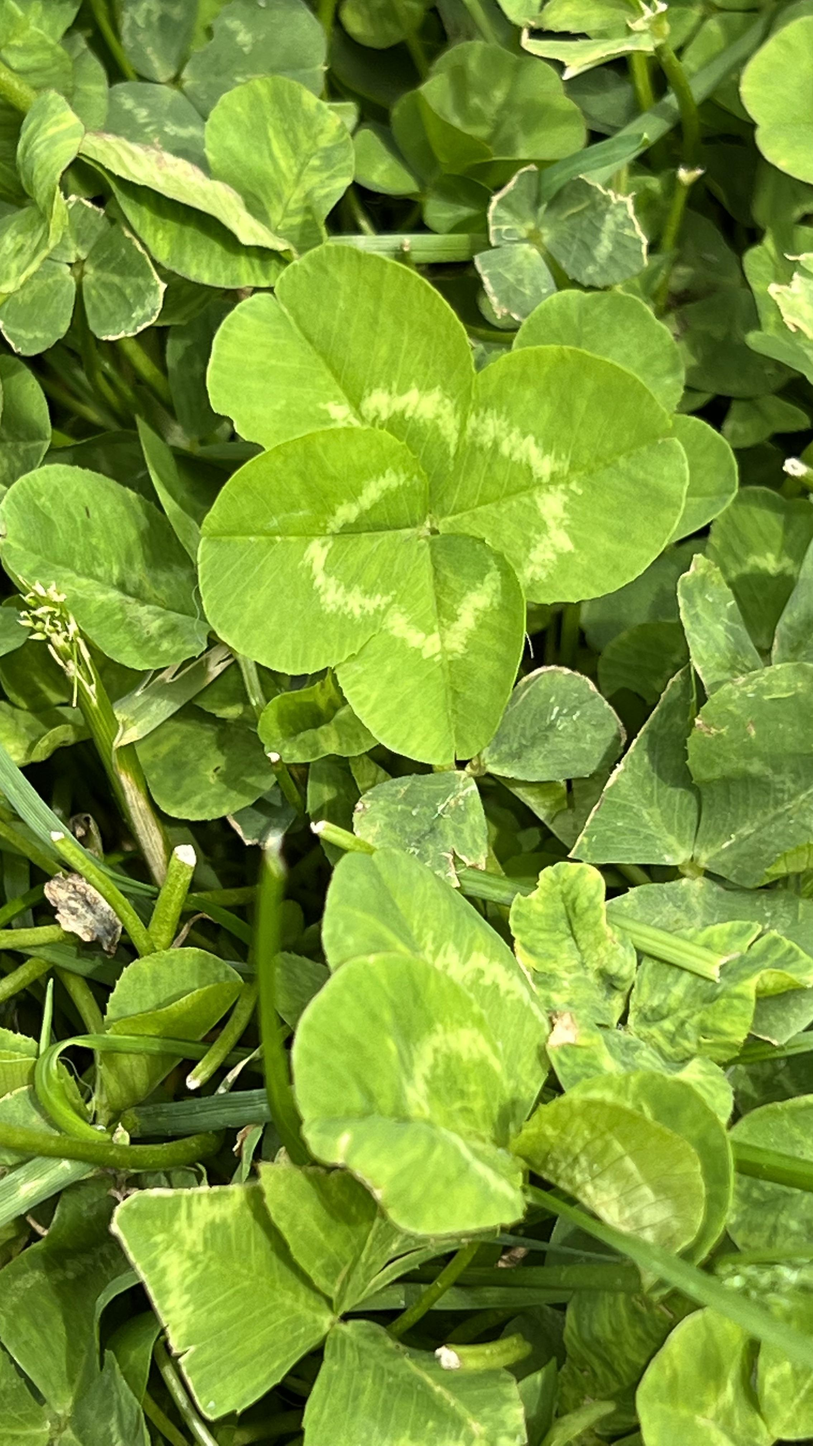4-Leaf-Clovers: (194, 240, 687, 774)
